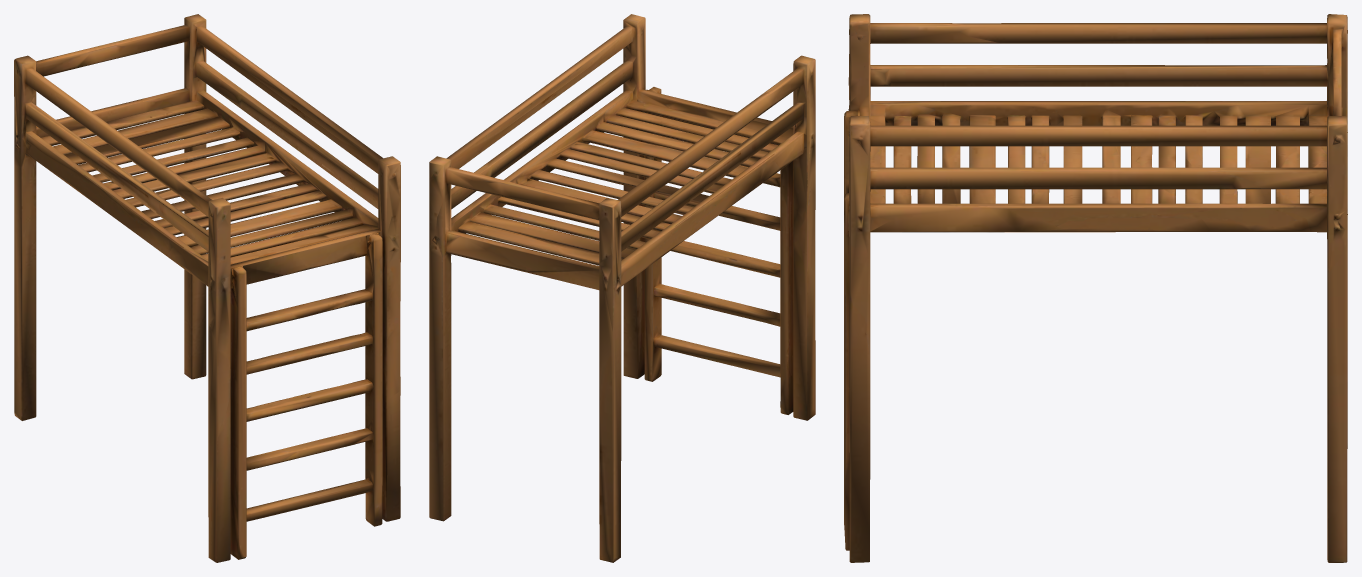
The model's file is bed-loft-lite.glb.
3 renders of one model, left to right at view 1: azimuth 30°, elevation 25°; view 2: azimuth 150°, elevation 25°; view 3: azimuth 270°, elevation 25°, orthographic. The views are drawn at different scales.
Visible parts, largest first — view 1: material; view 2: material; view 3: material.
Boxes of the visible parts, x1,y1,x2,y2 form: material: (14, 14, 400, 562); material: (429, 14, 815, 562); material: (844, 14, 1347, 562).
Size of the model in its own units: 0.427 by 0.7802 by 0.8108.
Materials: 1 (1 with a texture image).
